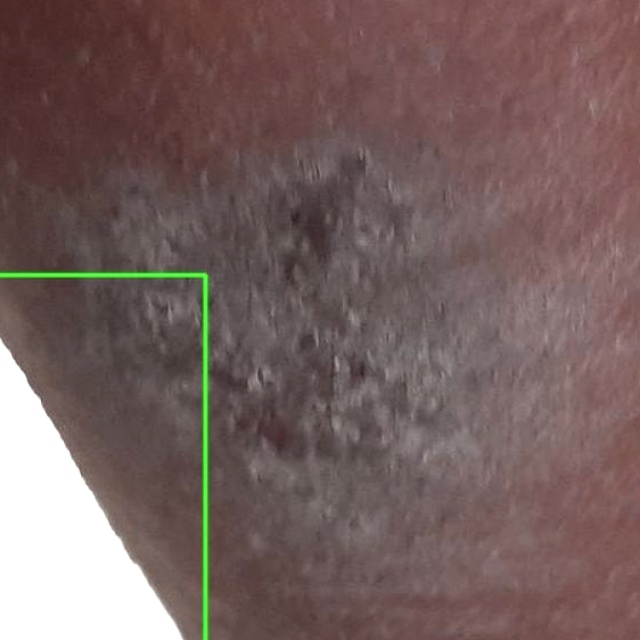Contact Dermatitis: (0, 274, 205, 639)
